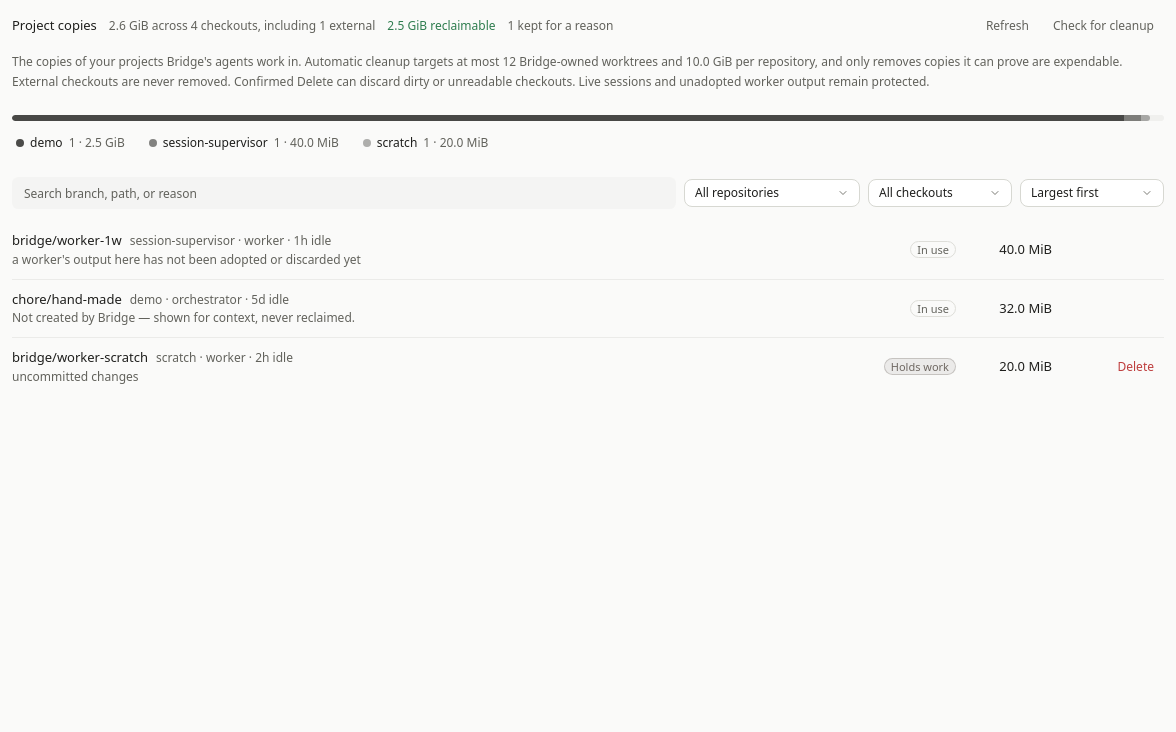
Test: deletes a checkout only after the destructive confirmation, and drops the row
Step 1. Click the button "Delete" → (1136,367), box [1108,353,1164,381]
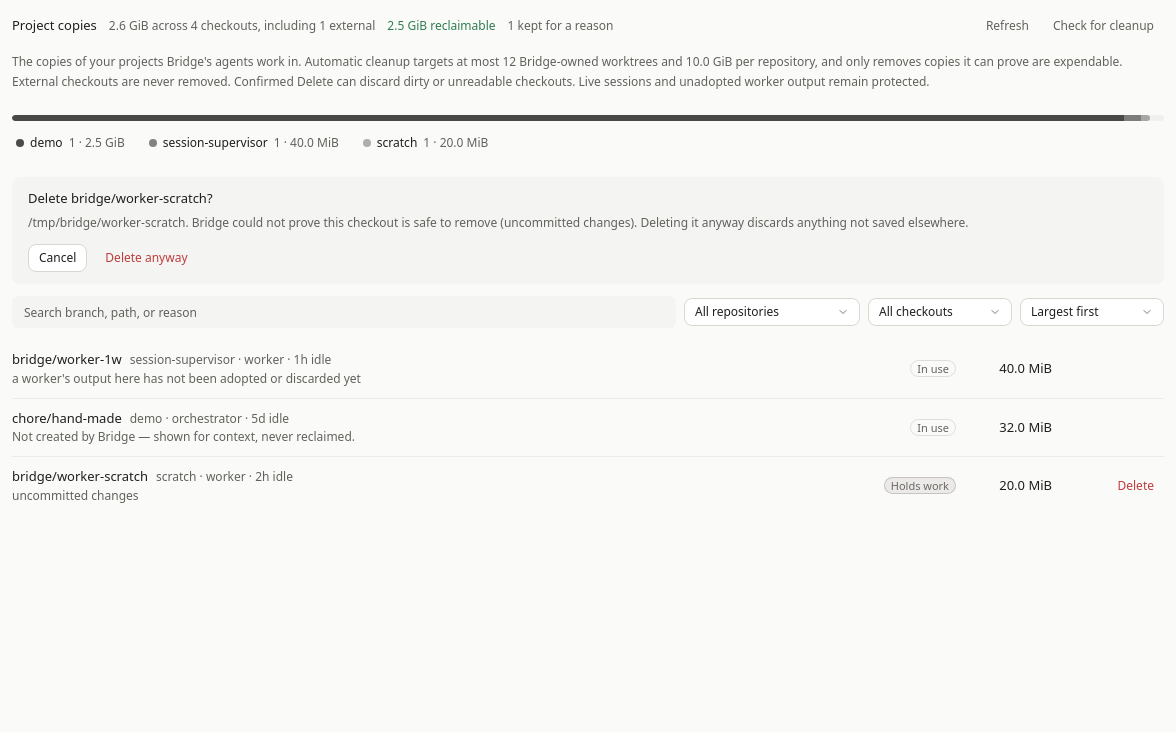
Check: the text "Bridge could not prove this checkout is safe to remove" is shown, box [28,214,968,230]
Step 2. Click the button "Delete anyway" → (146,258), box [95,244,198,272]
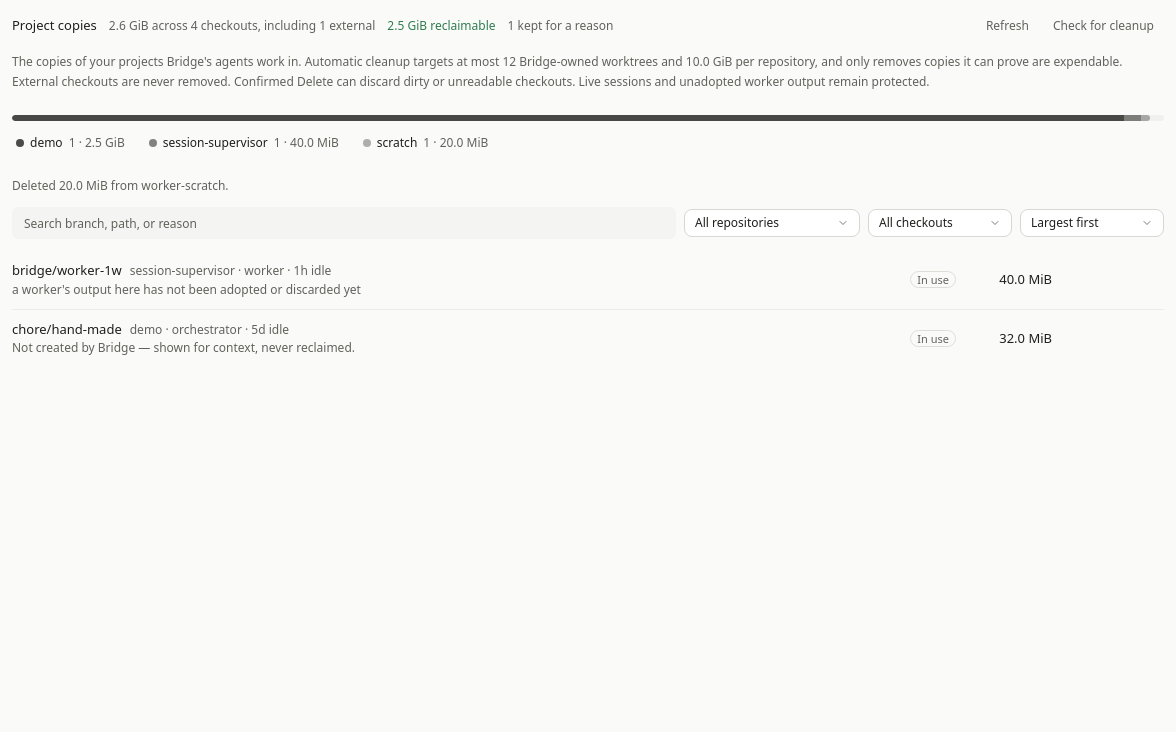
Check: the text "Deleted" is shown, box [12,177,229,194]
Check: the text "bridge/worker-scratch" is gone
